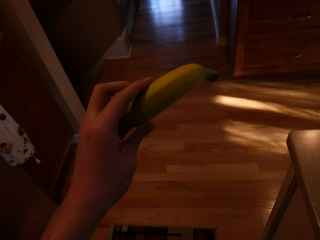banana: (112, 59, 221, 140)
